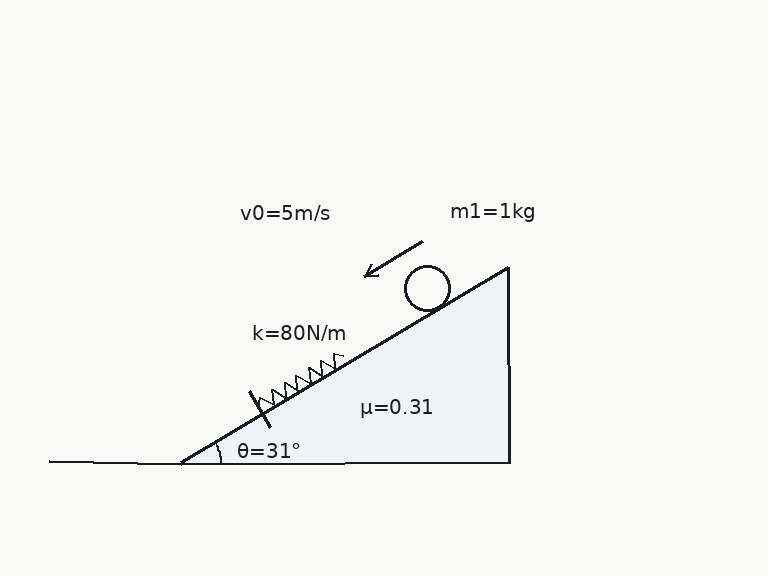ball: (402, 263, 452, 313)
ramp: (179, 265, 510, 465)
spring: (256, 351, 345, 408)
